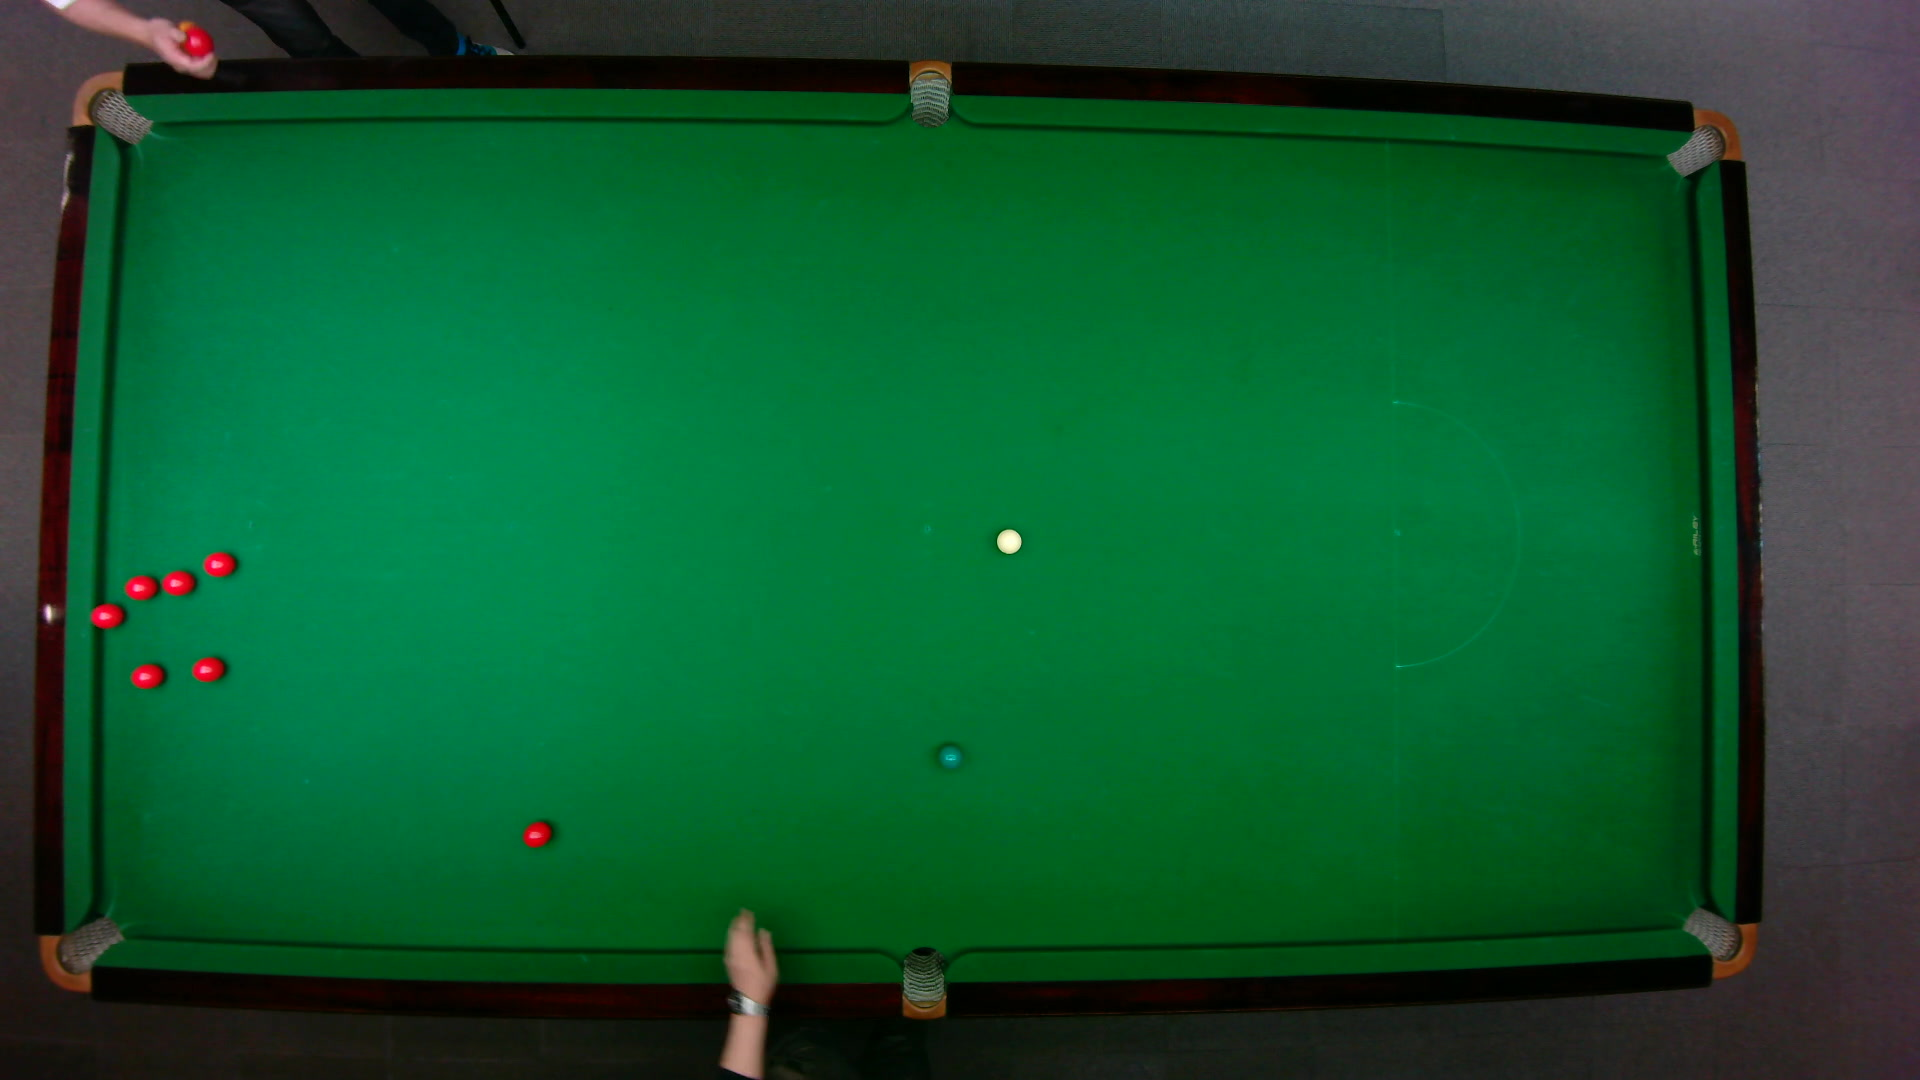bag: (37, 914, 125, 993), (69, 69, 153, 145), (1677, 905, 1756, 978), (1663, 107, 1741, 177), (901, 944, 944, 1021), (909, 57, 949, 128)
green: (935, 742, 964, 769)
red: (177, 22, 216, 61), (128, 659, 164, 688), (87, 601, 125, 628), (520, 818, 553, 848), (160, 568, 196, 595), (123, 574, 158, 600), (203, 550, 236, 578), (191, 655, 225, 682)
white: (994, 526, 1022, 555)
zone: (1390, 400, 1519, 669)
